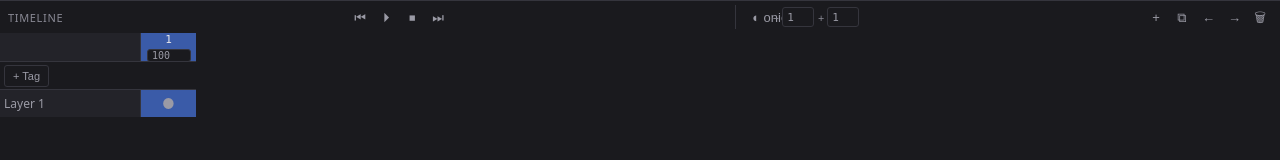
it: grid construction › shows a chain icon instead of a dot for a linked cel
Click the button "+" at (1156, 17), box [1144,5,1168,29]
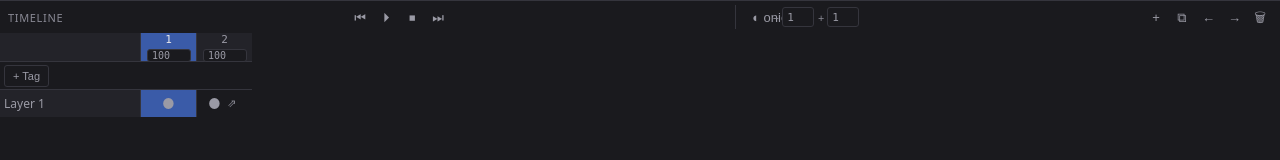
Expected: the button named "Link Layer 1 to the active frame" is shown
Click the button named "Link Layer 1 to the active frame" at (232, 104), box [223,94,241,112]
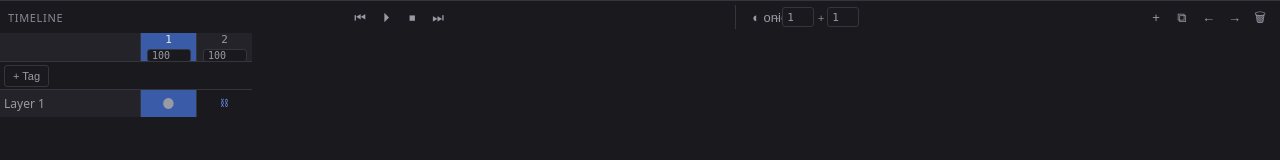
Expected: the button with class "timeline-link-btn-linked" is shown, [216,94,234,112]
